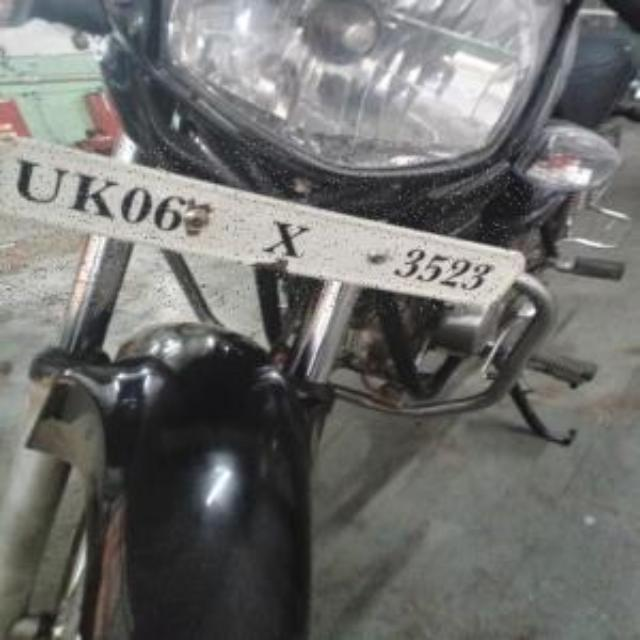License Plate: (1, 0, 210, 488)
